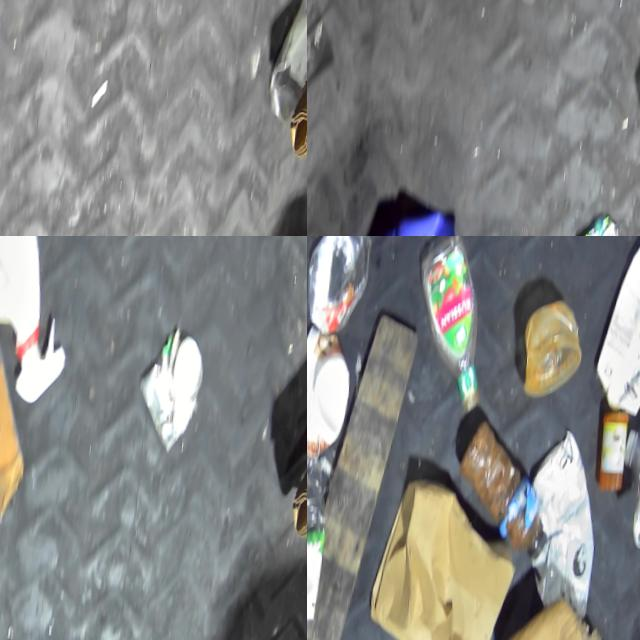can: (135, 322, 214, 462)
non_white_jug: (360, 212, 464, 236)
plastic_bottle: (307, 443, 338, 640), (619, 427, 640, 529)
